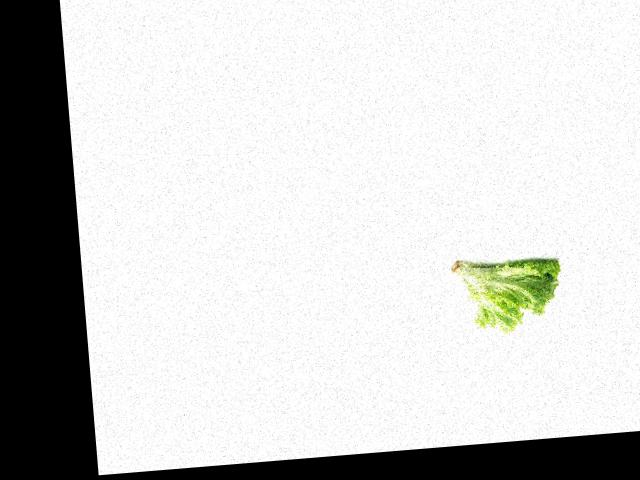lettuce: (447, 250, 564, 337)
